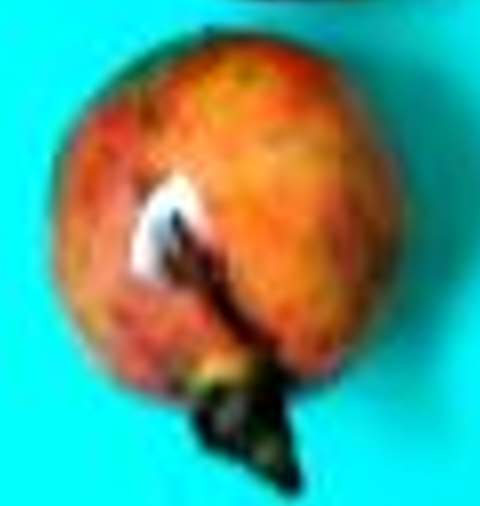pomegranate_C: (51, 36, 401, 494)
